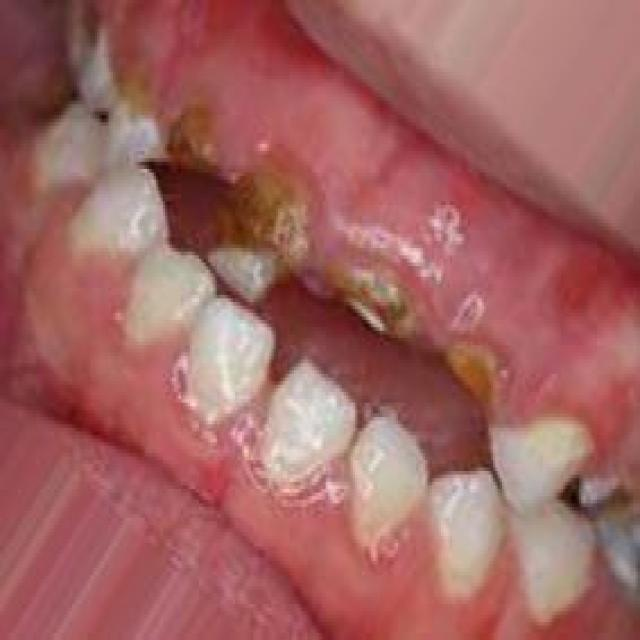caries: (317, 235, 424, 346), (231, 140, 310, 266), (438, 316, 513, 422), (162, 86, 220, 186), (112, 48, 159, 170), (568, 449, 640, 525)
